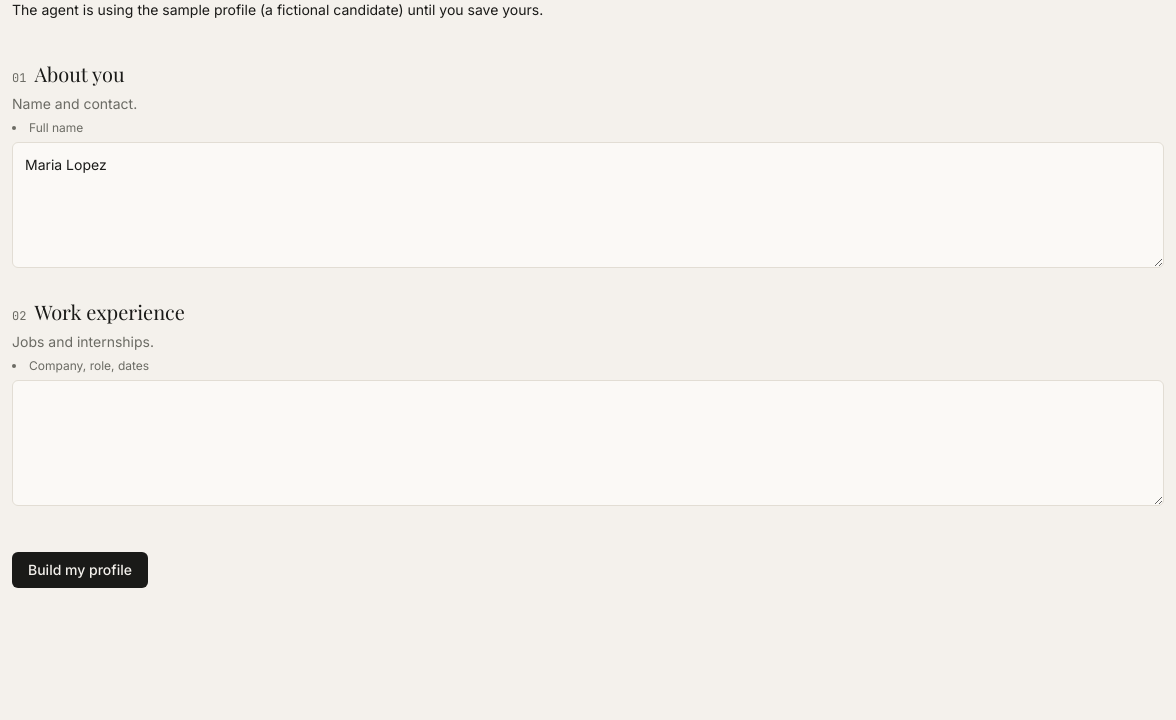
Scenario: ProfileBuilder › saves the edited draft
Step 1. Click the button "Build my profile" → (80, 570), box [12,552,148,588]
(page scrolled)
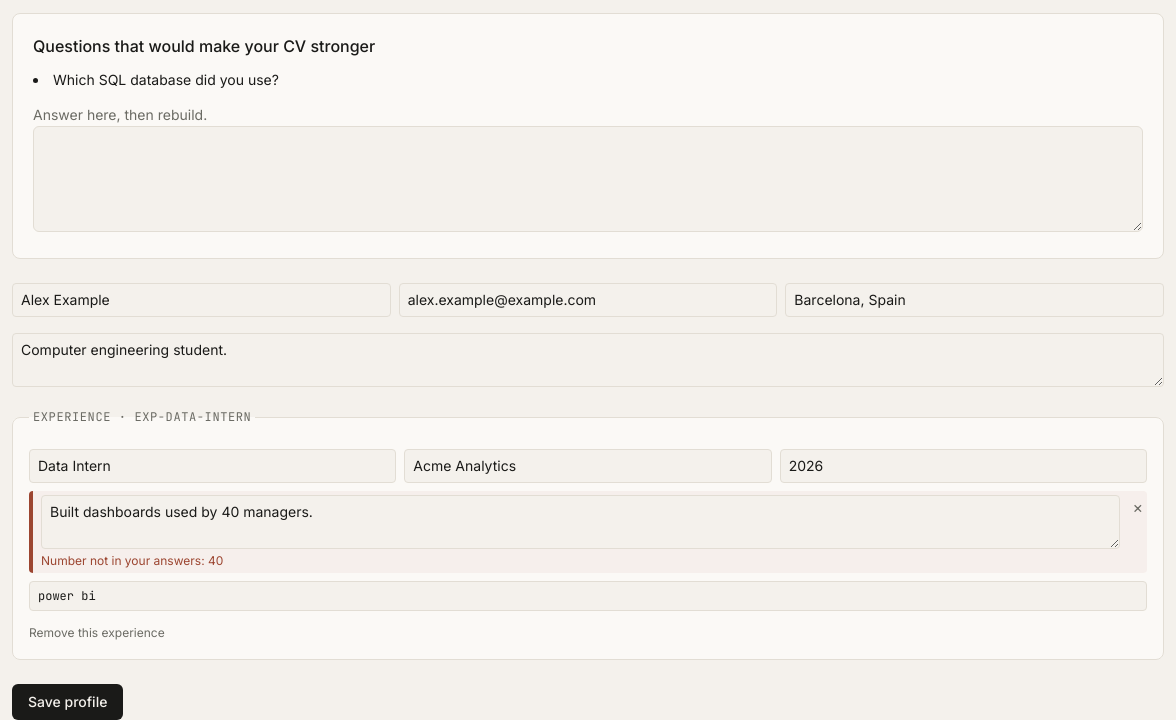
Step 2. Replace the text in the text box showing "Built dashboards used by 40 managers." with "Built dashboards used by 12 managers." → (581, 522), box [41,495,1120,549]
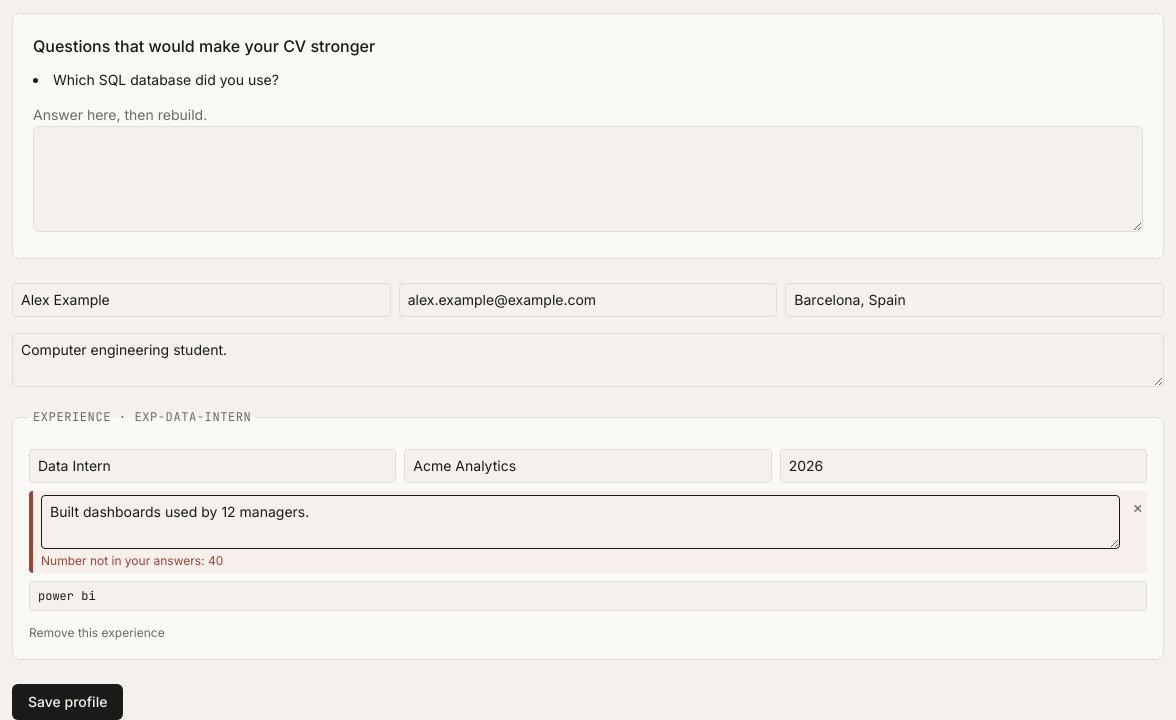
Step 3. Click the button "Save profile" → (68, 702), box [12,684,123,719]
(page scrolled)
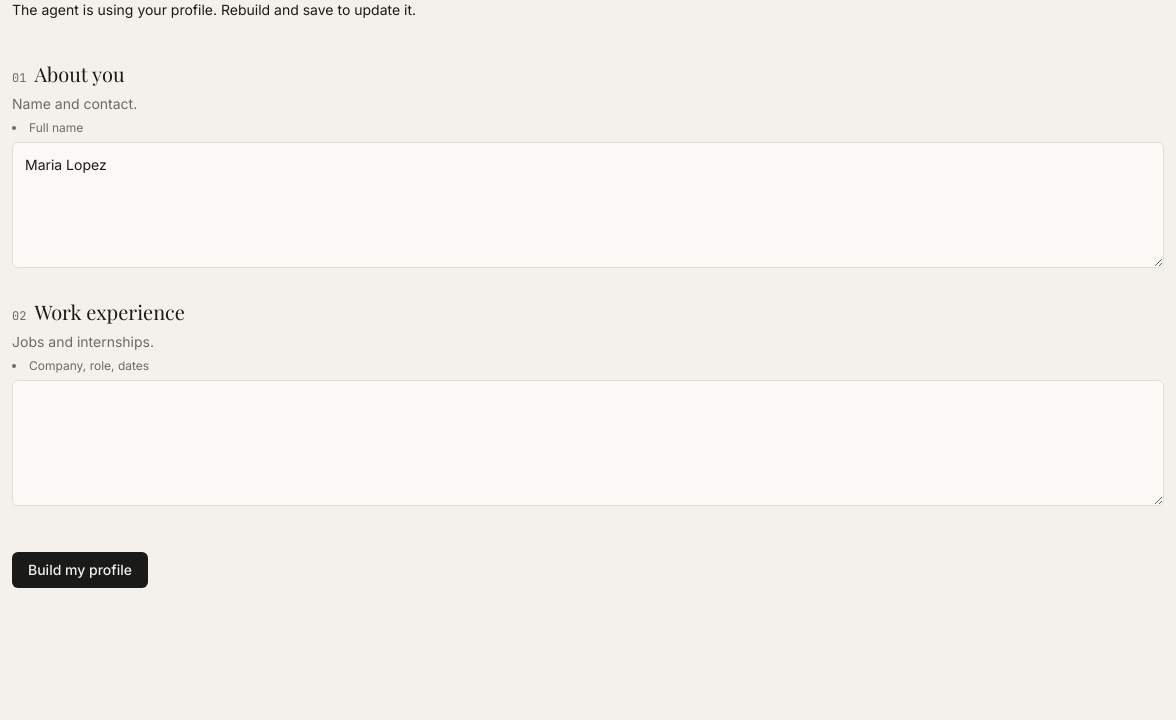
Expected: the text "using your profile" is shown, [12,1,416,18]
